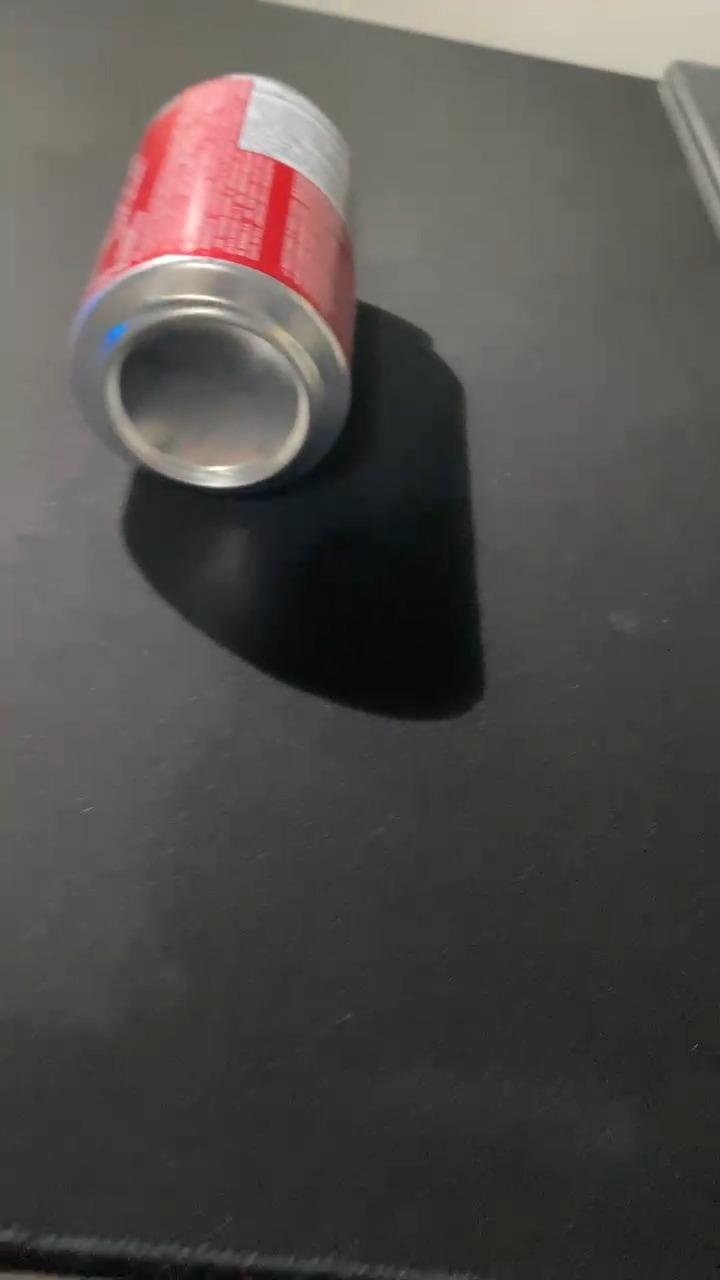coke: (66, 75, 362, 485)
